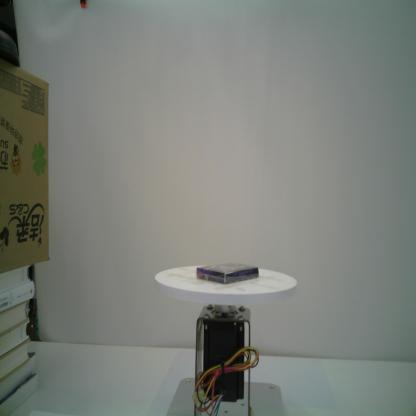Gum: (196, 262, 259, 284)
